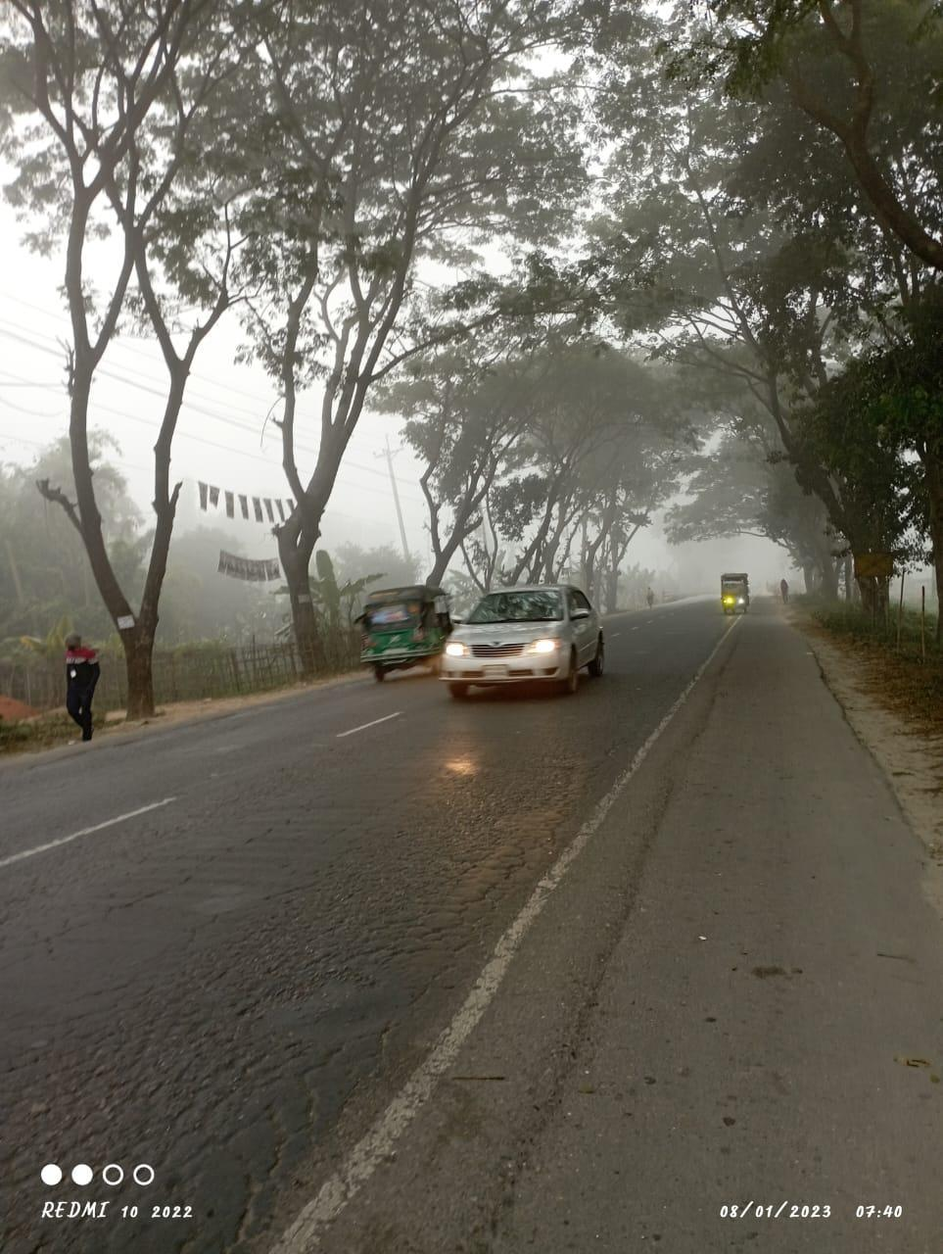Car: (435, 573, 616, 710), (711, 564, 762, 628)
